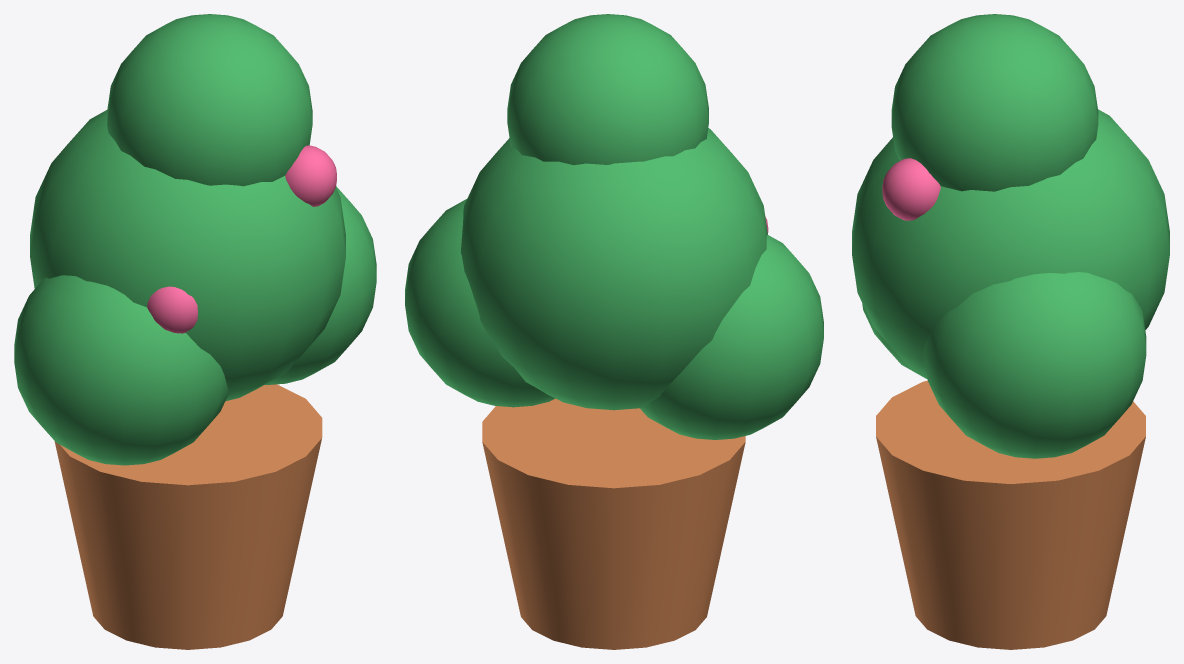
Rendered from decor_cute_1.glb.
The picture shows the model from 3 angles, left to right: view 1: azimuth 30°, elevation 25°; view 2: azimuth 150°, elevation 25°; view 3: azimuth 270°, elevation 25°; orthographic projection. The views are drawn at different scales.
Size of the model in its own units: 0.53 by 0.81 by 0.3939.
